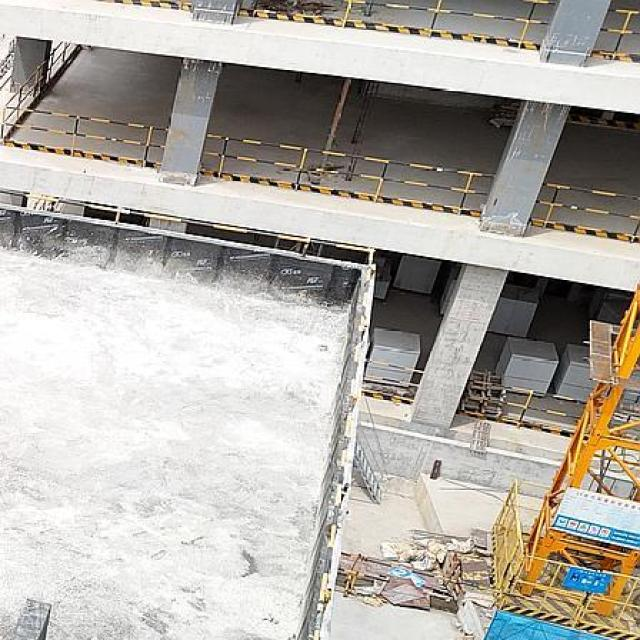edge_guardrail: (0, 184, 377, 640), (201, 133, 496, 208), (2, 41, 168, 160), (342, 0, 556, 41), (535, 181, 640, 235), (466, 379, 588, 420), (598, 7, 640, 52), (363, 357, 424, 387)
